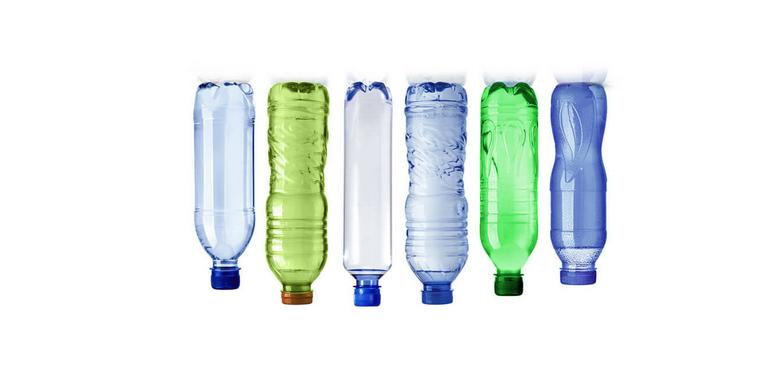Plastic: (180, 81, 259, 301), (261, 70, 333, 311), (397, 76, 471, 306), (477, 77, 540, 301), (339, 76, 395, 311), (549, 78, 610, 288)
